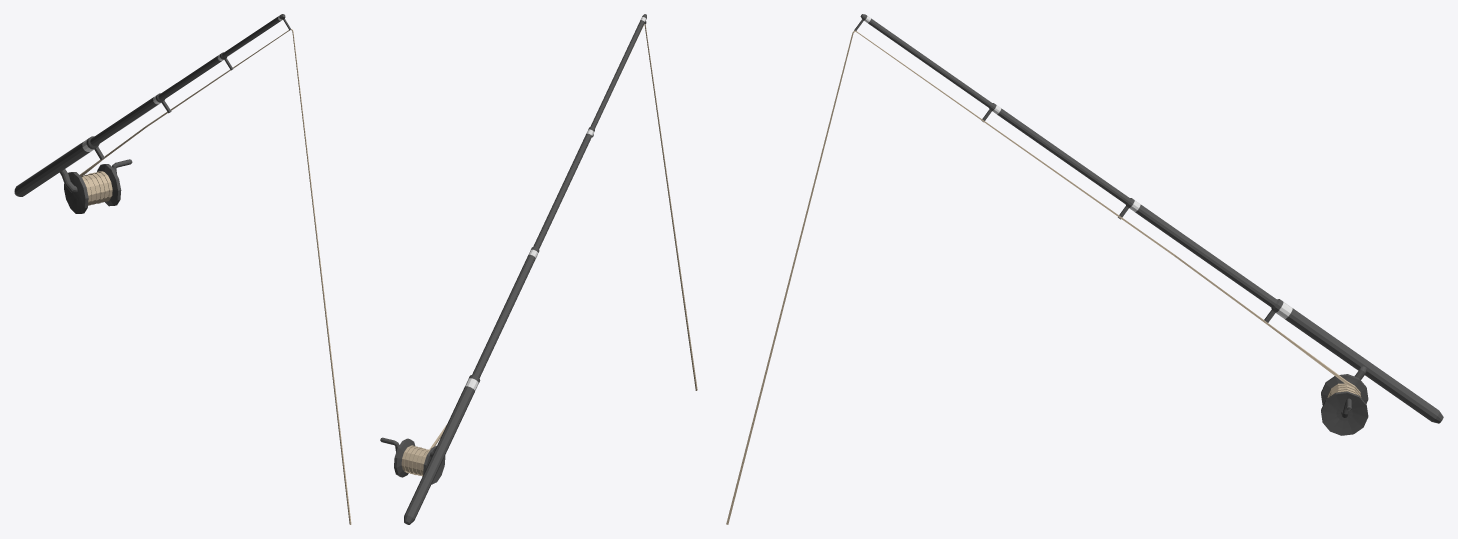
The model's file is rod.fbx.
The picture shows the model from 3 angles, left to right: view 1: azimuth 30°, elevation 25°; view 2: azimuth 150°, elevation 25°; view 3: azimuth 270°, elevation 25°; orthographic projection. The views are drawn at different scales.
Parts seen in each view (by area): view 1: rod; view 2: rod; view 3: rod.
Boxes of the visible parts, x1,y1,x2,y2 form: rod: (14,14,351,524); rod: (380,14,697,524); rod: (726,14,1443,524).
Size of the model in its own units: 0.925 by 6.89 by 5.38.
